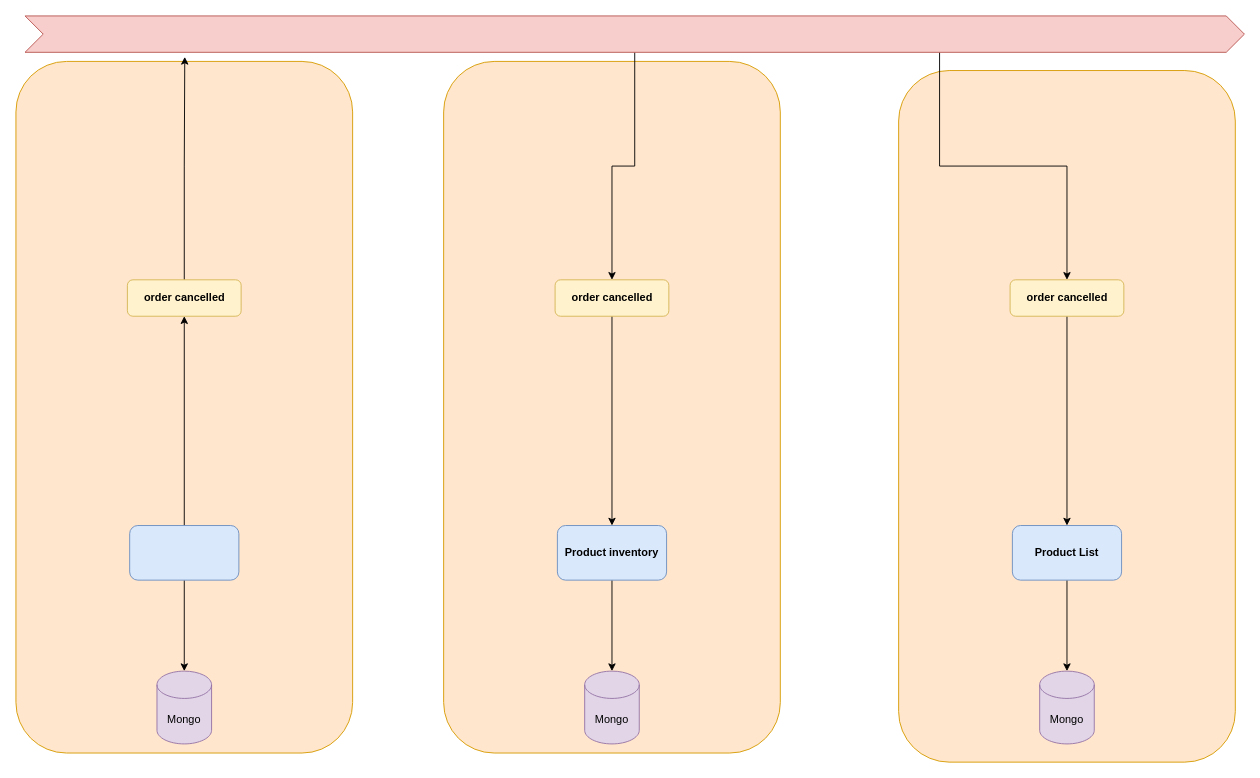
This 1260x778 diagram has some shape labels left out. The shapes that lost their labels are listed below. From the top down, each one's centre as x and y in pixels, then its label:
At pixel 634 33: "RabbitMQ".
At pixel 184 552: "Order management".
